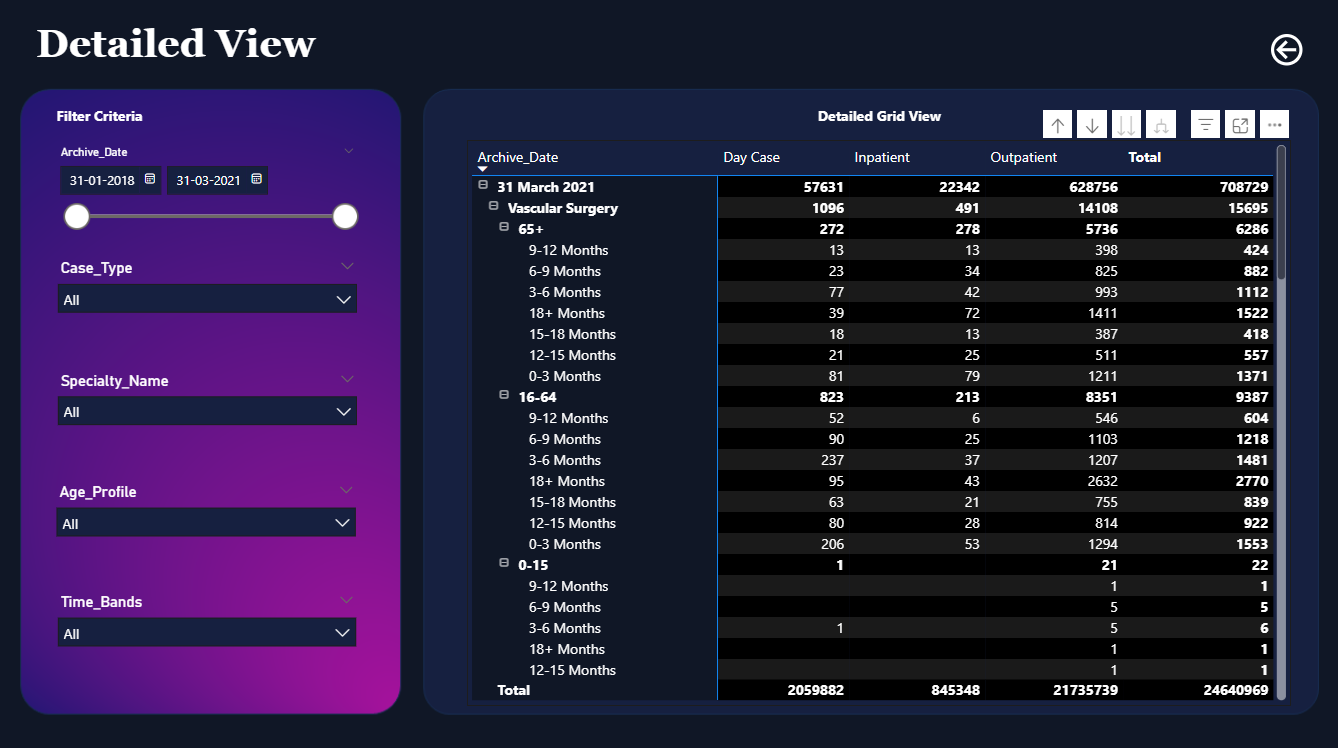

Layout of this report page (visuals, bound fields, positions):
{"tool":"powerbi","page":{"name":"Detail","canvas":[1280,720],"ordinal":1},"visuals":[{"type":"slicer","fields":{"Values":["All Data.Archive_Date"]},"box":[47.5,133.8,305,96.2],"z":0},{"type":"slicer","fields":{"Values":["All Data.Case_Type"]},"box":[47.5,241.2,305,80],"z":1000},{"type":"slicer","fields":{"Values":["All Data.Specialty_Name"]},"box":[47.5,348.8,305,80],"z":2000},{"type":"textbox","box":[32,16,288,64],"z":3000},{"type":"slicer","fields":{"Values":["All Data.Age_Profile"]},"box":[46.2,455,305,80],"z":4000},{"type":"slicer","fields":{"Values":["All Data.Time_Bands"]},"box":[48,560,304,80],"z":5000},{"type":"pivotTable","fields":{"Rows":["All Data.Archive_Date","All Data.Specialty_Name","All Data.Age_Profile","All Data.Time_Bands"],"Columns":["All Data.Case_Type"],"Values":["Sum(All Data.Total)"]},"box":[447.5,133.8,785,538.8],"z":6000},{"type":"textbox","box":[764,96,152,28],"z":7000},{"type":"textbox","box":[47.5,96.2,100,33.8],"z":8000},{"type":"actionButton","box":[1208.8,27.5,47.5,40],"z":9000}]}

Visuals, with their boxes in screenshot pixels (x1, y1, x2, y2), scaled from the page's 1280x720 canvas onto the 1338x748 screenshot:
slicer - All Data.Archive_Date: BBox(50, 139, 368, 239)
slicer - All Data.Case_Type: BBox(50, 251, 368, 334)
slicer - All Data.Specialty_Name: BBox(50, 362, 368, 445)
textbox: BBox(33, 17, 334, 83)
slicer - All Data.Age_Profile: BBox(48, 473, 367, 556)
slicer - All Data.Time_Bands: BBox(50, 582, 368, 665)
pivotTable - All Data.Archive_Date x All Data.Specialty_Name: BBox(468, 139, 1288, 699)
textbox: BBox(799, 100, 958, 129)
textbox: BBox(50, 100, 154, 135)
actionButton: BBox(1264, 29, 1313, 70)
